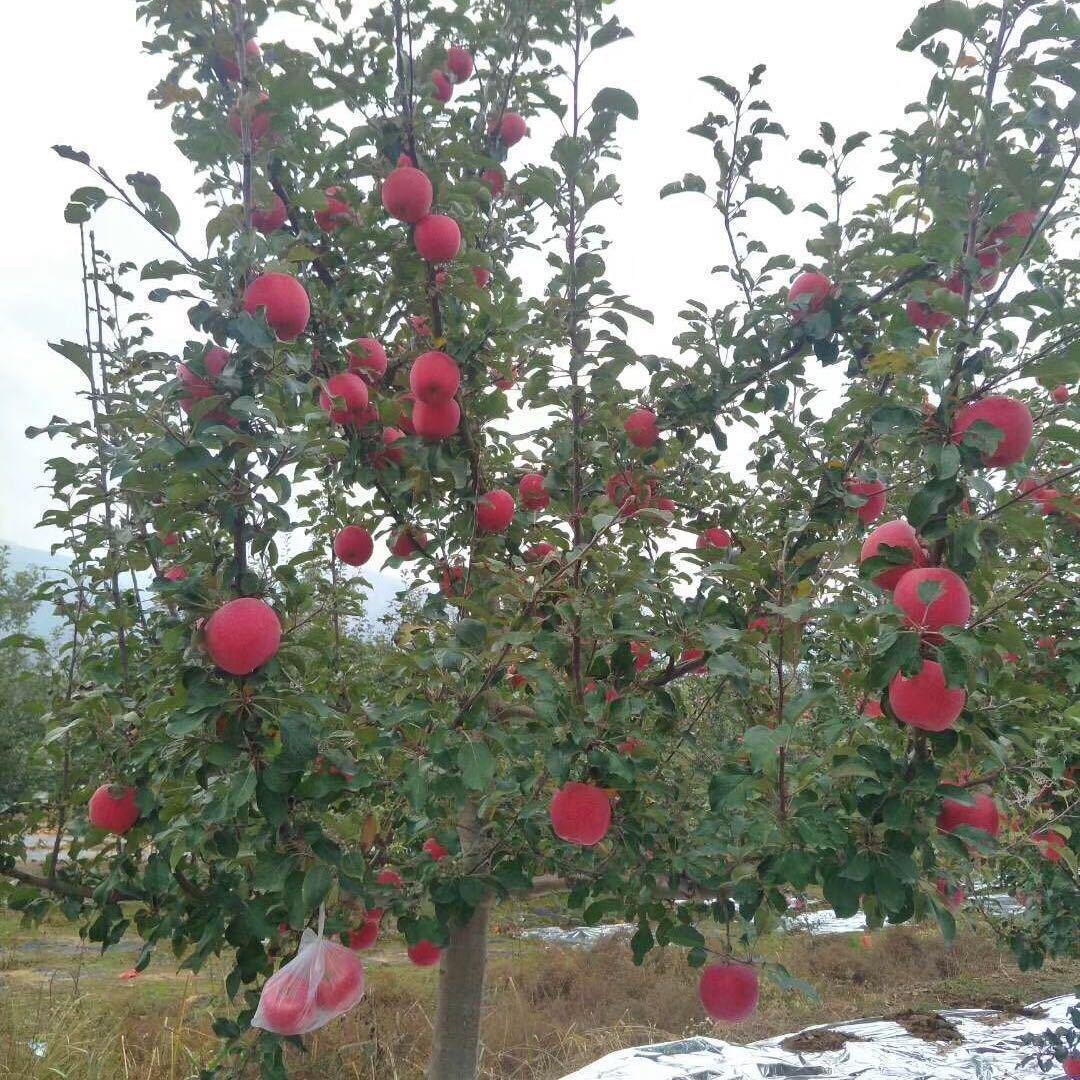apple: (199, 597, 283, 671), (893, 563, 970, 638), (891, 661, 967, 731), (954, 395, 1030, 465), (245, 272, 314, 334), (550, 777, 611, 847), (410, 350, 464, 407), (381, 166, 434, 222)
